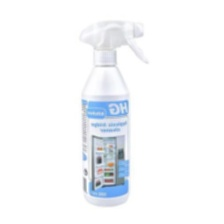cleaning_solution: (75, 17, 150, 213)
